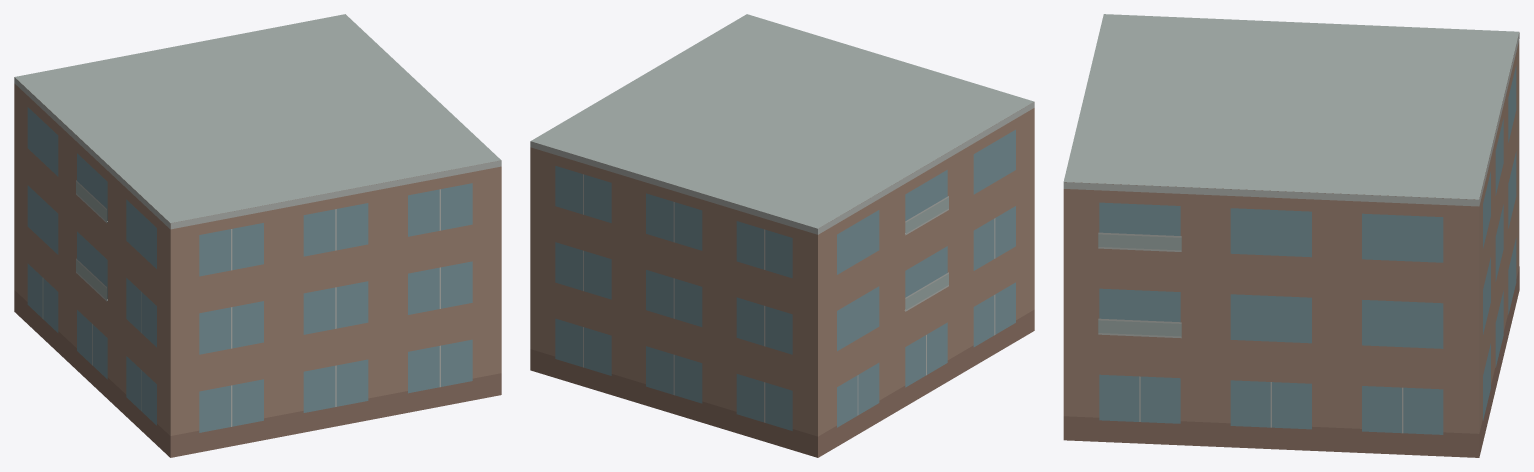
File: residential-b5d1ba81-4526-44dd-9ad3-5d195ead3fd2.glb
3 renders of one model, left to right at view 1: azimuth 30°, elevation 25°; view 2: azimuth 150°, elevation 25°; view 3: azimuth 270°, elevation 25°, orthographic. The views are drawn at different scales.
Visible parts, largest first — view 1: residential-b5d1ba81-4526-44dd-9ad3-5d195ead3fd2.tmp; view 2: residential-b5d1ba81-4526-44dd-9ad3-5d195ead3fd2.tmp; view 3: residential-b5d1ba81-4526-44dd-9ad3-5d195ead3fd2.tmp.
Part boxes in pixels (left/top/right/bottom): residential-b5d1ba81-4526-44dd-9ad3-5d195ead3fd2.tmp: left=14, top=14, right=501, bottom=457; residential-b5d1ba81-4526-44dd-9ad3-5d195ead3fd2.tmp: left=530, top=14, right=1034, bottom=457; residential-b5d1ba81-4526-44dd-9ad3-5d195ead3fd2.tmp: left=1063, top=14, right=1519, bottom=457.
Bounding box in the file's own units: 14.11 × 9.15 × 14.65.
